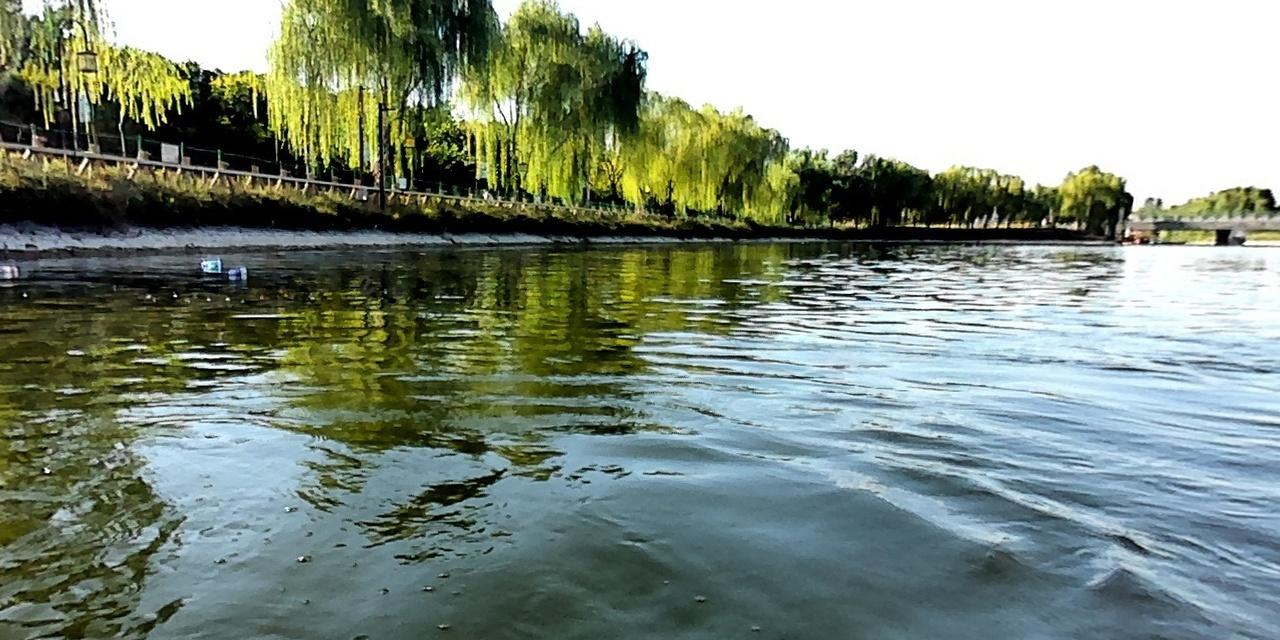bottle: (193, 256, 224, 269), (222, 265, 247, 276)
